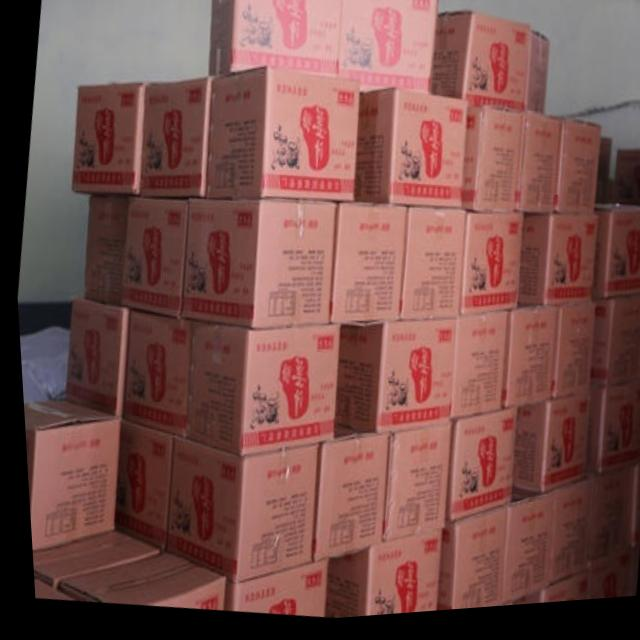box: (158, 438, 315, 585), (204, 70, 360, 206), (182, 323, 337, 459), (176, 201, 333, 333), (351, 91, 468, 215), (19, 400, 116, 549), (328, 326, 453, 439), (207, 0, 343, 83), (304, 425, 384, 566), (428, 18, 531, 118), (336, 0, 439, 100), (317, 537, 436, 622), (325, 208, 406, 329), (51, 554, 217, 612), (116, 311, 188, 441), (136, 79, 210, 201), (68, 85, 147, 197), (116, 199, 186, 322), (58, 296, 127, 420), (437, 415, 512, 529), (107, 420, 169, 554), (506, 400, 587, 502), (375, 431, 444, 548), (395, 214, 463, 328), (514, 222, 594, 315), (429, 511, 499, 617), (26, 527, 153, 584), (455, 218, 521, 322), (459, 114, 521, 219), (444, 318, 503, 428), (494, 493, 544, 612), (216, 564, 322, 620), (579, 390, 640, 483), (497, 315, 553, 415), (79, 196, 127, 308), (583, 304, 640, 394), (586, 213, 640, 307), (515, 120, 561, 222), (581, 475, 627, 575), (544, 487, 585, 597), (551, 130, 600, 222), (545, 309, 590, 409), (503, 578, 580, 612), (522, 37, 550, 124)
